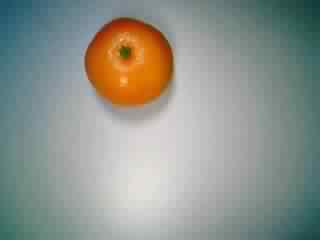orange: (82, 16, 178, 112)
